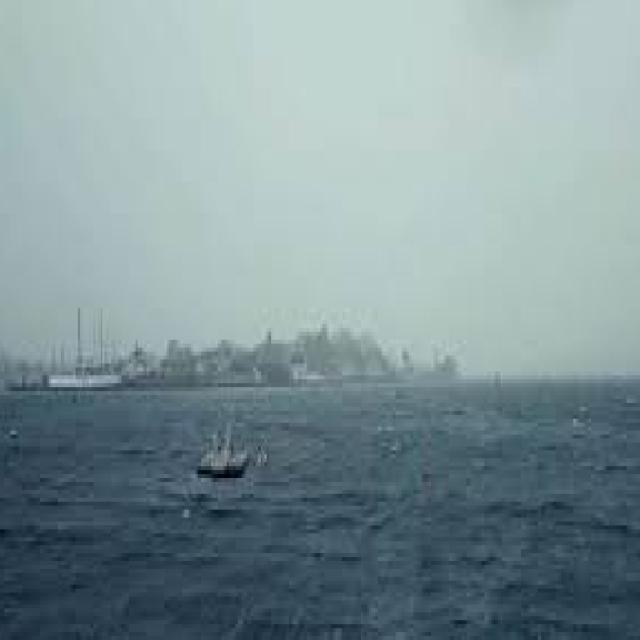fishing boat: (192, 410, 262, 506)
